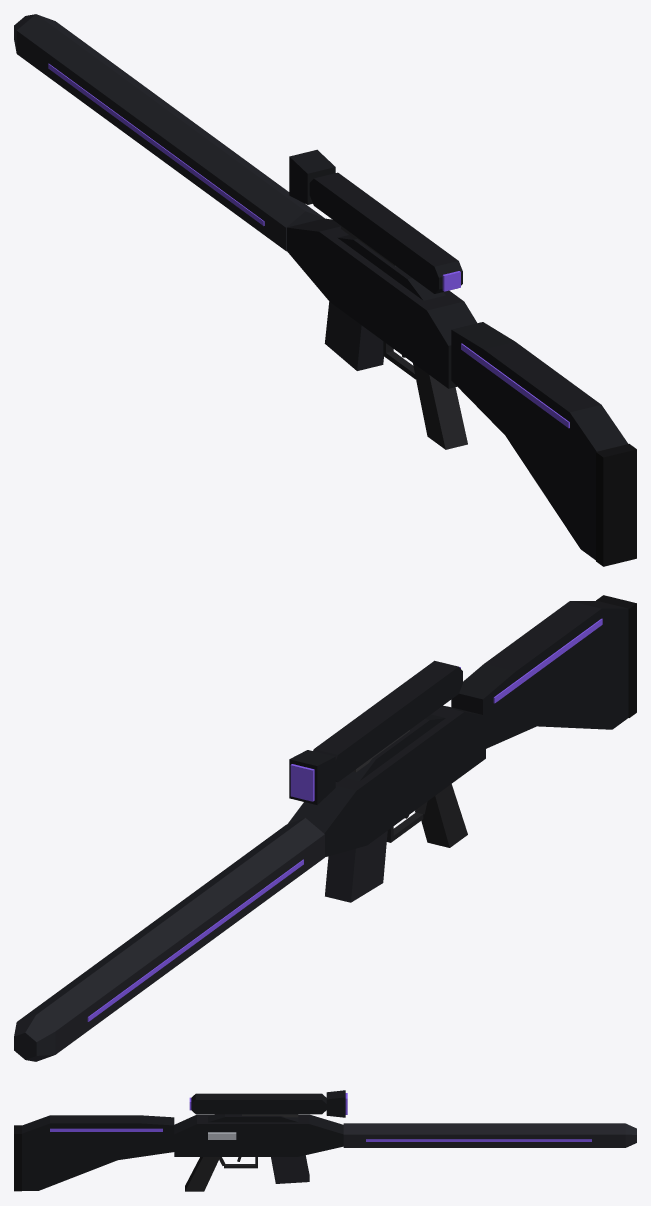
File: Phantom.obj
3 renders of one model, top to bottom at view 1: azimuth 30°, elevation 25°; view 2: azimuth 150°, elevation 25°; view 3: azimuth 270°, elevation 25°, orthographic. The views are drawn at different scales.
Visible parts, largest first — view 1: Stock, Handguard, Body, Scope, Pad, Grip, Magazine, Accent; view 2: Stock, Handguard, Body, Scope, Magazine, Accent, Grip, Muzzle, Pad, Lens; view 3: Stock, Handguard, Body, Scope, Accent, Magazine, Grip, Pad, Trigger, Muzzle, Bolt.
Part boxes in pixels (box(x1,y1,x2,y2)): Stock: box(451, 322, 628, 560); Handguard: box(16, 14, 324, 251); Body: box(287, 218, 476, 388); Scope: box(289, 149, 462, 293); Pad: box(596, 444, 636, 566); Grip: box(413, 363, 467, 449); Magazine: box(324, 302, 383, 370); Accent: box(48, 63, 569, 428); Stock: box(451, 601, 628, 748); Handguard: box(17, 818, 324, 1054); Body: box(287, 705, 485, 856); Scope: box(289, 660, 462, 804); Magazine: box(325, 831, 387, 902); Accent: box(87, 618, 602, 1021); Grip: box(421, 784, 467, 847); Muzzle: box(14, 1015, 55, 1061); Pad: box(596, 595, 636, 717); Lens: box(290, 667, 460, 801); Stock: box(22, 1115, 174, 1190); Handguard: box(343, 1123, 625, 1147); Body: box(174, 1114, 343, 1156); Scope: box(191, 1090, 345, 1117); Accent: box(50, 1128, 591, 1141); Magazine: box(271, 1155, 309, 1183); Grip: box(185, 1157, 219, 1191); Pad: box(14, 1125, 21, 1191); Trigger: box(219, 1157, 257, 1168); Muzzle: box(625, 1123, 636, 1147); Bolt: box(208, 1132, 236, 1139).
Size of the model in its own units: 0.238 by 0.93 by 5.52.
